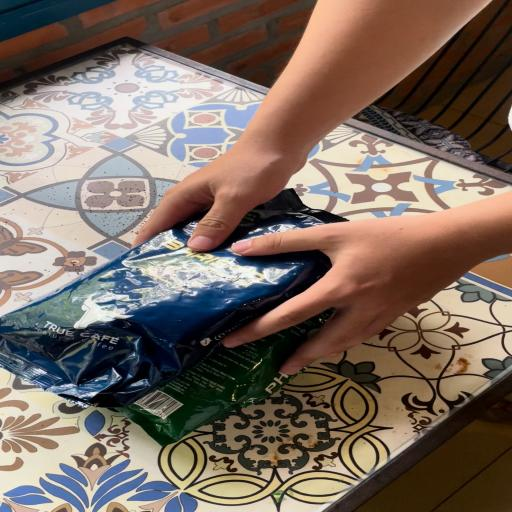cafe_hat: (0, 190, 345, 407)
cafe_xay: (118, 312, 330, 446)
